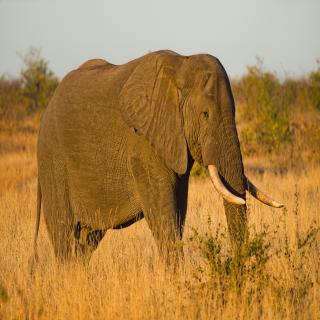Elephant: (26, 46, 286, 286)
